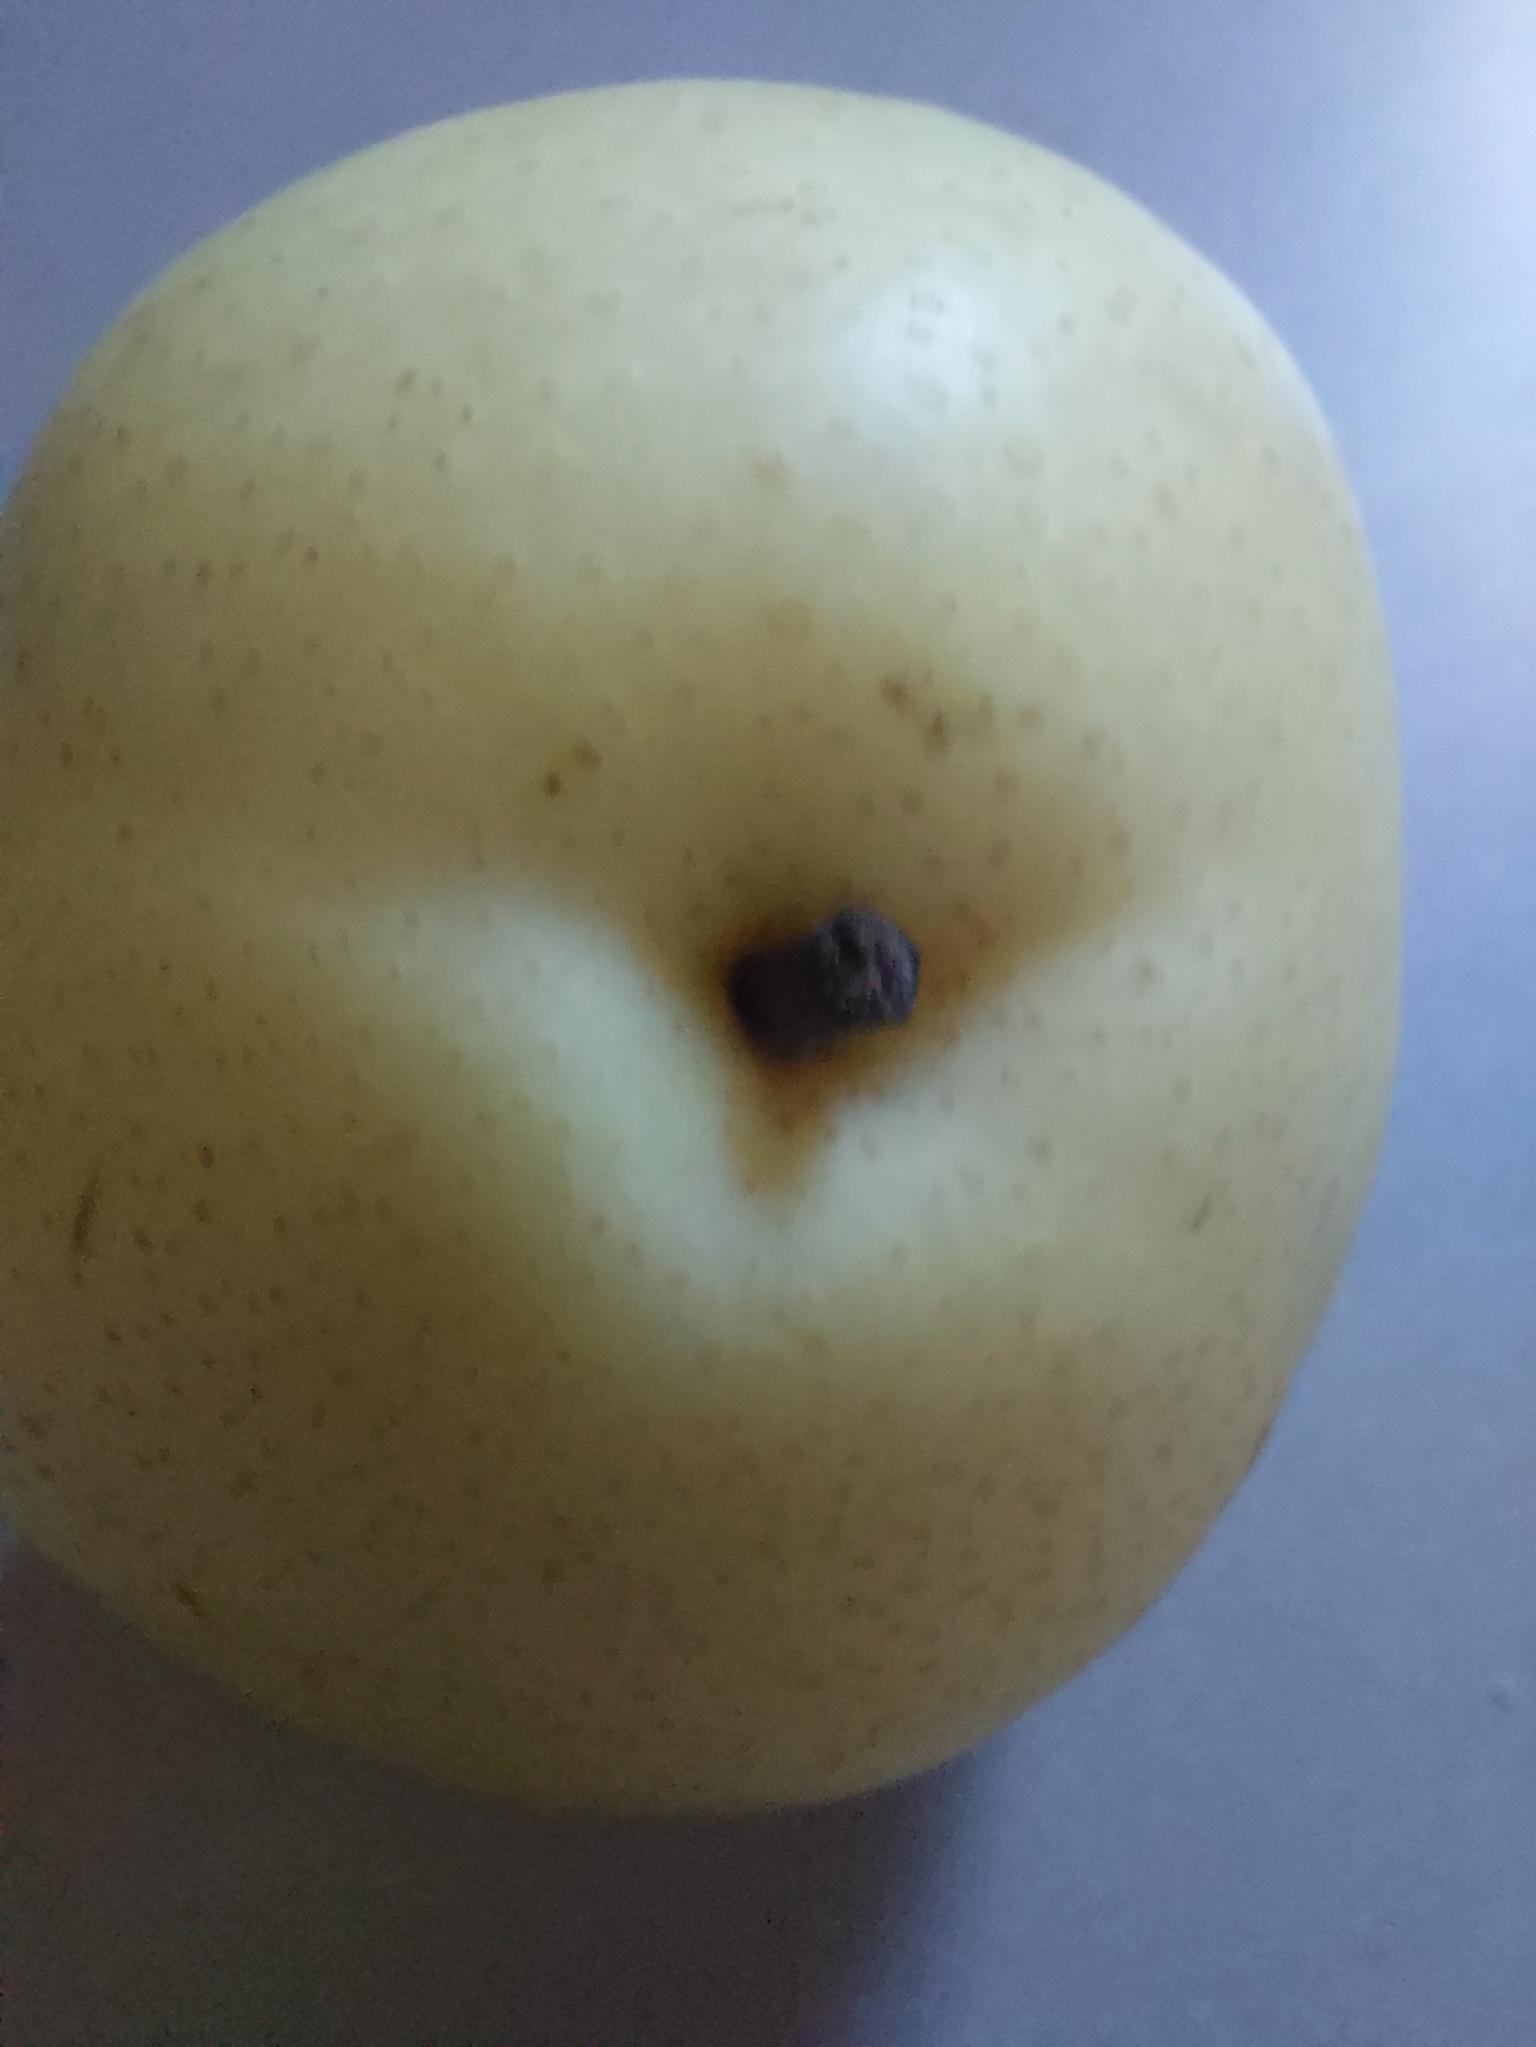Good Pear: (0, 2, 1536, 1903)
